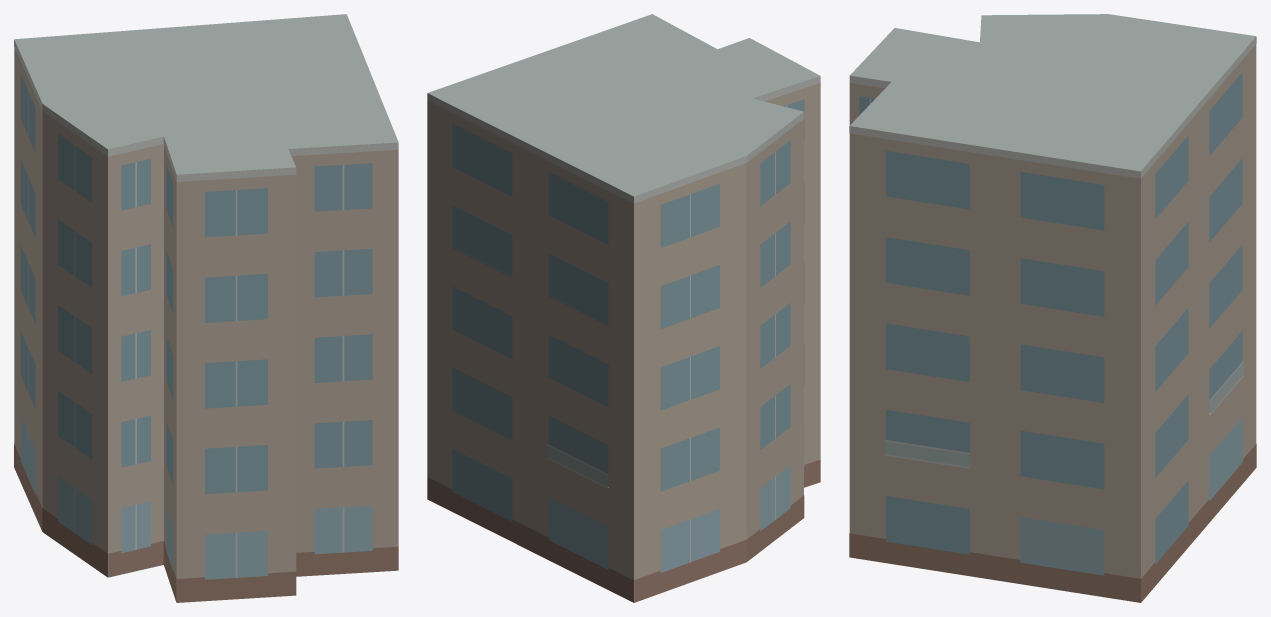
Rendered from survey-upis-32878365.glb.
3 renders of one model, left to right at view 1: azimuth 30°, elevation 25°; view 2: azimuth 150°, elevation 25°; view 3: azimuth 270°, elevation 25°, orthographic. The views are drawn at different scales.
Parts seen in each view (by area): view 1: survey-upis-32878365.tmp; view 2: survey-upis-32878365.tmp; view 3: survey-upis-32878365.tmp.
Boxes of the visible parts, x1,y1,x2,y2 form: survey-upis-32878365.tmp: [14, 14, 398, 602]; survey-upis-32878365.tmp: [427, 14, 820, 602]; survey-upis-32878365.tmp: [849, 14, 1256, 602].
Bounding box in the file's own units: 11.28 × 14.4 × 12.32.
